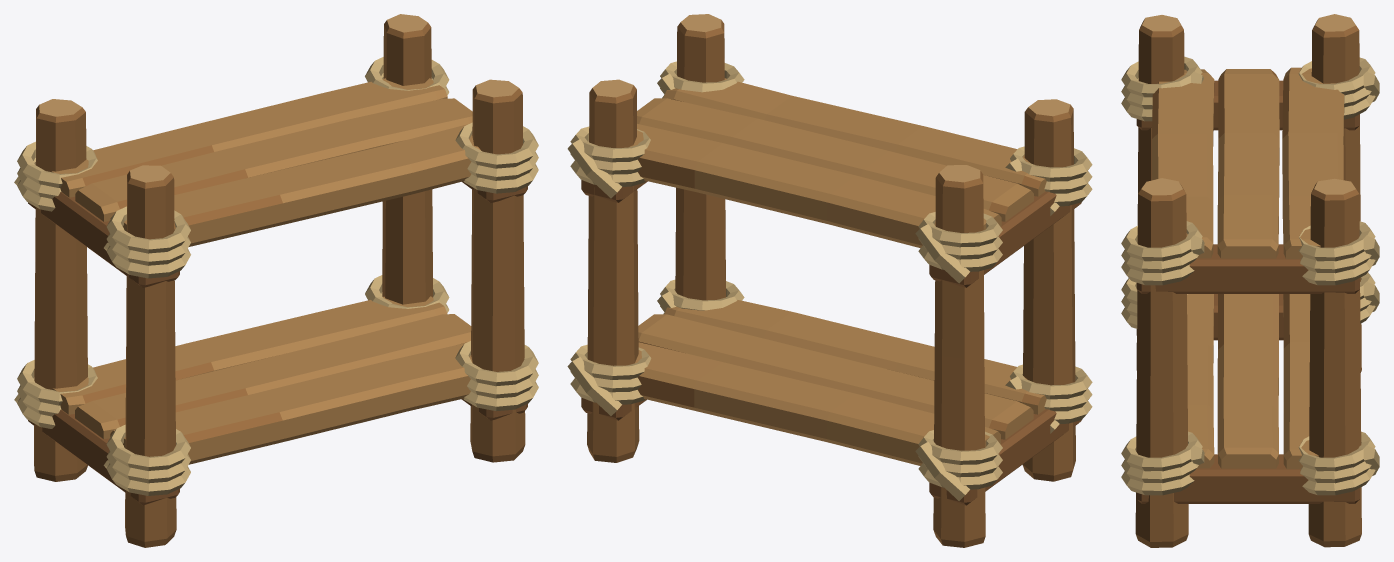
Rendered from display_shelf_raised_01.glb.
3 renders of one model, left to right at view 1: azimuth 30°, elevation 25°; view 2: azimuth 150°, elevation 25°; view 3: azimuth 270°, elevation 25°, orthographic. The views are drawn at different scales.
Visible parts, largest first — view 1: display_shelf_raised_01__shelf_plank.003, display_shelf_raised_01__shelf_plank, display_shelf_raised_01__post.002, display_shelf_raised_01__post, display_shelf_raised_01__post.001, display_shelf_raised_01__shelf_plank.004, display_shelf_raised_01__shelf_plank.005, display_shelf_raised_01__shelf_plank.001, display_shelf_raised_01__shelf_plank.002, display_shelf_raised_01__post.003, display_shelf_raised_01__bearer.002, display_shelf_raised_01__bearer (+16 smaller); view 2: display_shelf_raised_01__shelf_plank.005, display_shelf_raised_01__shelf_plank.002, display_shelf_raised_01__post.001, display_shelf_raised_01__post.003, display_shelf_raised_01__post, display_shelf_raised_01__shelf_plank.004, display_shelf_raised_01__shelf_plank.001, display_shelf_raised_01__shelf_plank.003, display_shelf_raised_01__shelf_plank, display_shelf_raised_01__post.002, display_shelf_raised_01__bearer.002, display_shelf_raised_01__bearer (+16 smaller); view 3: display_shelf_raised_01__post.002, display_shelf_raised_01__post.003, display_shelf_raised_01__shelf_plank.004, display_shelf_raised_01__shelf_plank.001, display_shelf_raised_01__shelf_plank.005, display_shelf_raised_01__shelf_plank.003, display_shelf_raised_01__bearer.003, display_shelf_raised_01__bearer.001, display_shelf_raised_01__shelf_plank.002, display_shelf_raised_01__shelf_plank, display_shelf_raised_01__post.001, display_shelf_raised_01__post (+23 smaller).
Boxes of the visible parts, <box> form: display_shelf_raised_01__shelf_plank.003: <box>110,124,480,246</box>; display_shelf_raised_01__shelf_plank: <box>110,343,472,464</box>; display_shelf_raised_01__post.002: <box>470,79,525,462</box>; display_shelf_raised_01__post: <box>125,165,176,547</box>; display_shelf_raised_01__post.001: <box>34,99,87,481</box>; display_shelf_raised_01__shelf_plank.004: <box>75,98,472,221</box>; display_shelf_raised_01__shelf_plank.005: <box>51,78,447,197</box>; display_shelf_raised_01__shelf_plank.001: <box>75,314,471,439</box>; display_shelf_raised_01__shelf_plank.002: <box>52,296,447,414</box>; display_shelf_raised_01__post.003: <box>382,14,432,304</box>; display_shelf_raised_01__bearer.002: <box>28,192,179,287</box>; display_shelf_raised_01__bearer: <box>28,409,179,505</box>; display_shelf_raised_01__shelf_plank.005: <box>630,124,1001,247</box>; display_shelf_raised_01__shelf_plank.002: <box>635,342,1000,465</box>; display_shelf_raised_01__post.001: <box>933,165,985,547</box>; display_shelf_raised_01__post.003: <box>587,79,639,462</box>; display_shelf_raised_01__post: <box>1022,99,1075,481</box>; display_shelf_raised_01__shelf_plank.004: <box>637,98,1033,221</box>; display_shelf_raised_01__shelf_plank.001: <box>638,314,1033,439</box>; display_shelf_raised_01__shelf_plank.003: <box>663,78,1046,196</box>; display_shelf_raised_01__shelf_plank: <box>664,300,1046,414</box>; display_shelf_raised_01__post.002: <box>675,14,725,300</box>; display_shelf_raised_01__bearer.002: <box>929,191,1081,287</box>; display_shelf_raised_01__bearer: <box>929,409,1081,505</box>; display_shelf_raised_01__post.002: <box>1135,178,1188,547</box>; display_shelf_raised_01__post.003: <box>1308,178,1361,547</box>; display_shelf_raised_01__shelf_plank.004: <box>1217,69,1279,258</box>; display_shelf_raised_01__shelf_plank.001: <box>1217,294,1278,468</box>; display_shelf_raised_01__shelf_plank.005: <box>1282,67,1344,259</box>; display_shelf_raised_01__shelf_plank.003: <box>1152,69,1214,258</box>; display_shelf_raised_01__bearer.003: <box>1136,244,1359,293</box>; display_shelf_raised_01__bearer.001: <box>1136,454,1359,503</box>; display_shelf_raised_01__shelf_plank.002: <box>1283,294,1318,469</box>; display_shelf_raised_01__shelf_plank: <box>1187,294,1214,468</box>; display_shelf_raised_01__post.001: <box>1311,14,1361,372</box>; display_shelf_raised_01__post: <box>1136,15,1184,370</box>.
Size of the model in its own units: 1.11 by 0.92 by 0.614.
